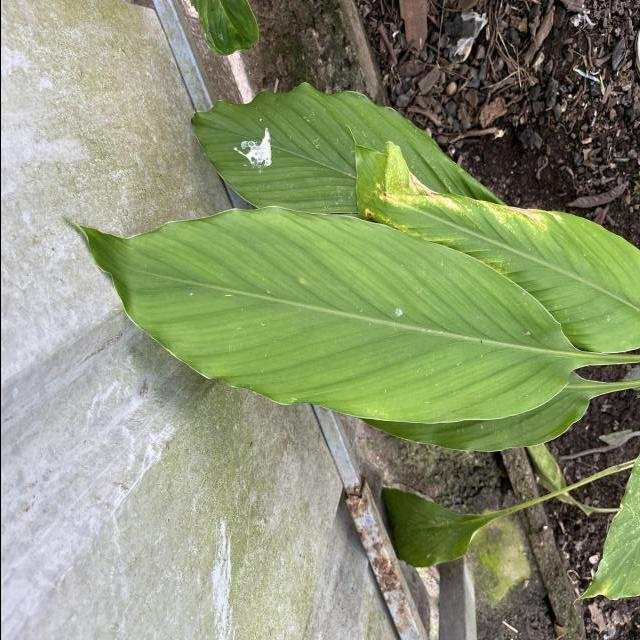Curcuma longa: (54, 202, 578, 429), (185, 80, 518, 212)
